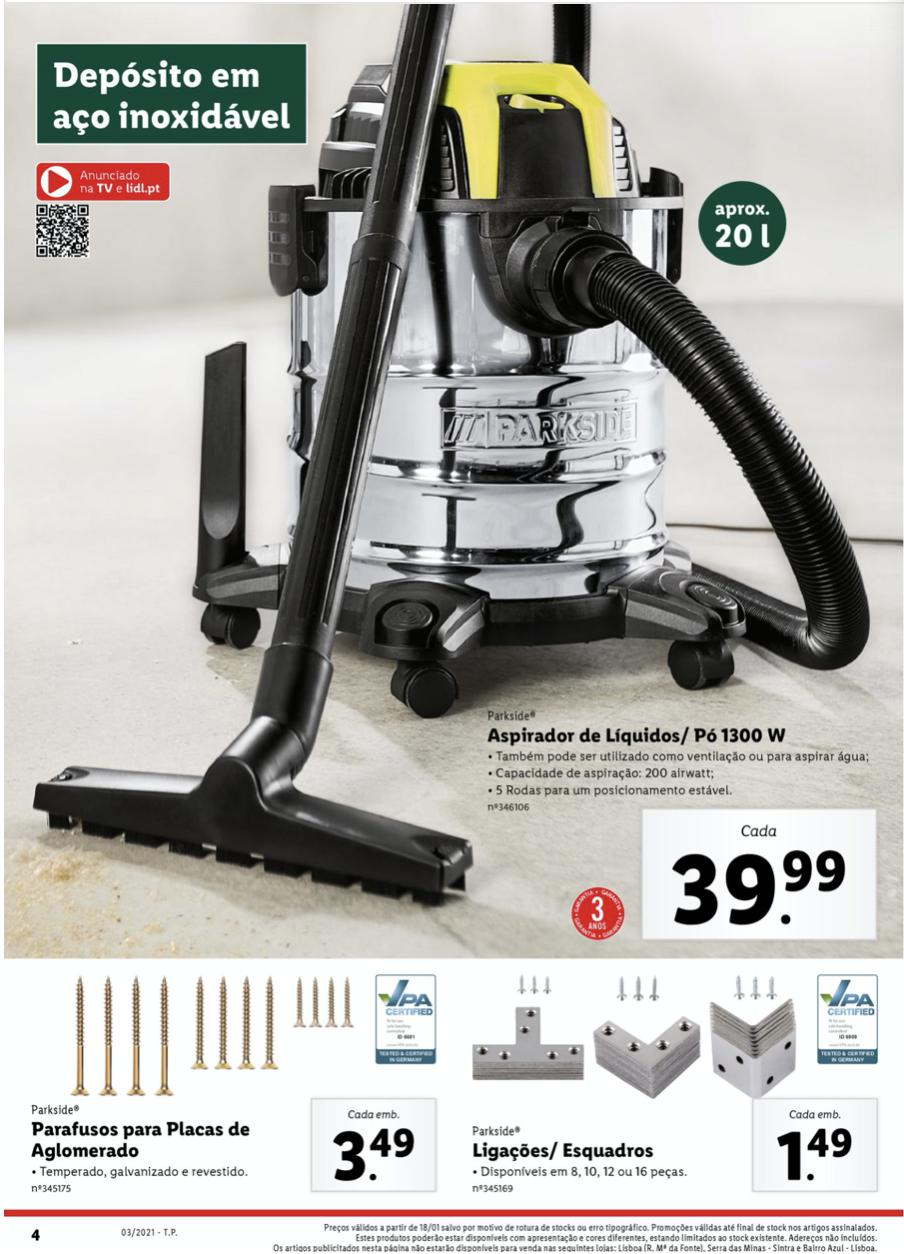name: (26, 1118, 253, 1164), (484, 723, 789, 753), (464, 1135, 659, 1165)
price: (667, 845, 859, 935), (331, 1124, 425, 1188), (770, 1121, 862, 1185)
product: (16, 18, 895, 954), (14, 968, 453, 1204), (453, 971, 894, 1204)
